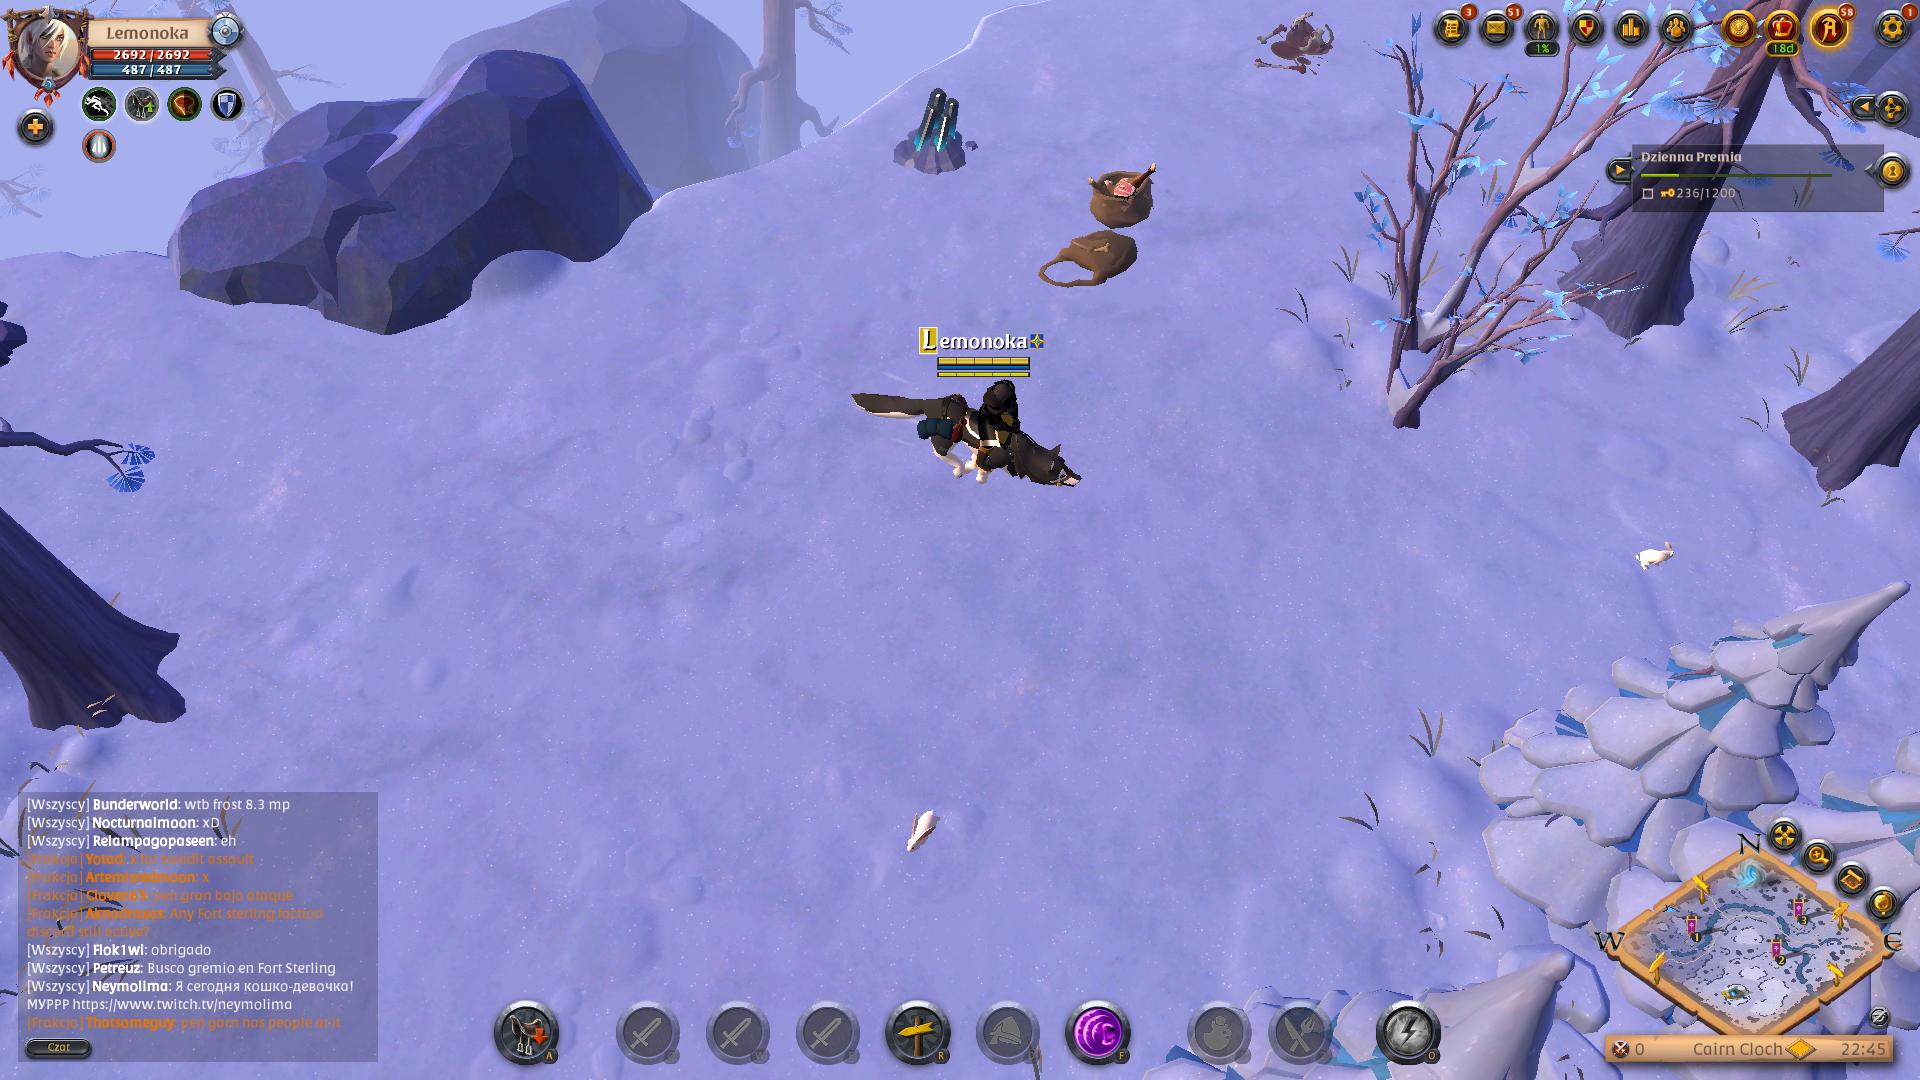ore tier 4: (895, 87, 977, 182), (1876, 796, 1915, 855)
